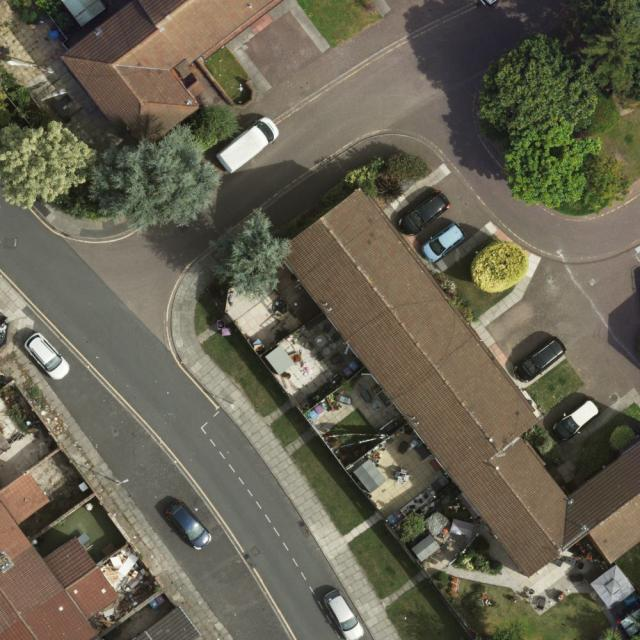roof: (276, 186, 640, 578), (60, 0, 279, 152), (0, 472, 121, 639), (134, 605, 205, 640)
